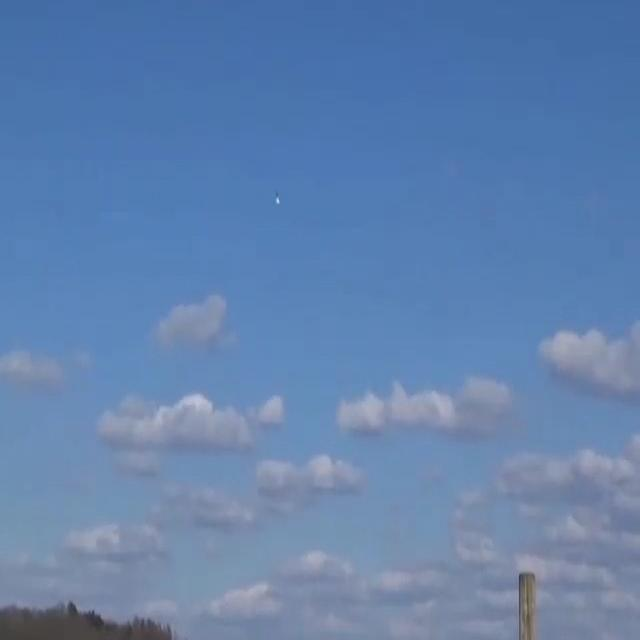bird: (269, 186, 283, 208)
